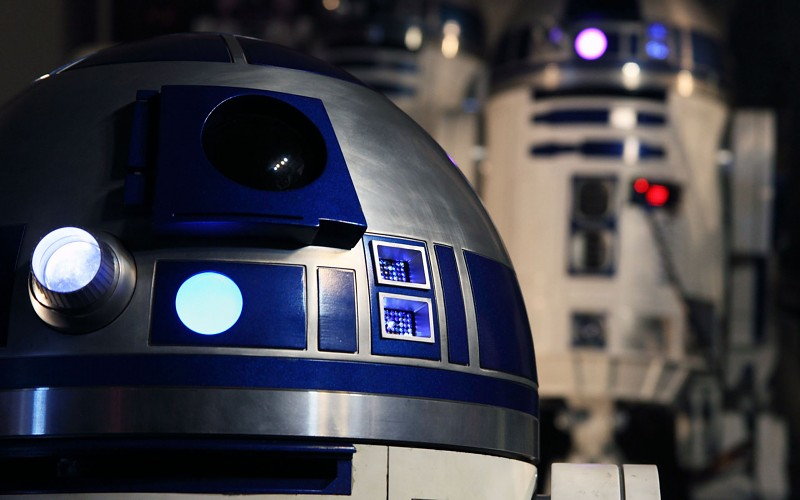r2d2: (1, 33, 540, 492)
